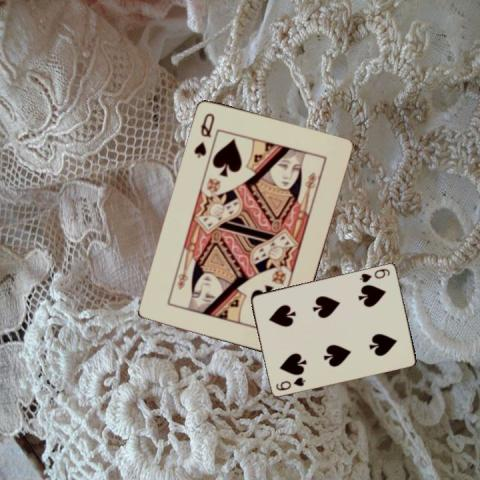6s: (357, 266, 391, 284), (273, 374, 307, 392)
Qs: (191, 110, 217, 159)
